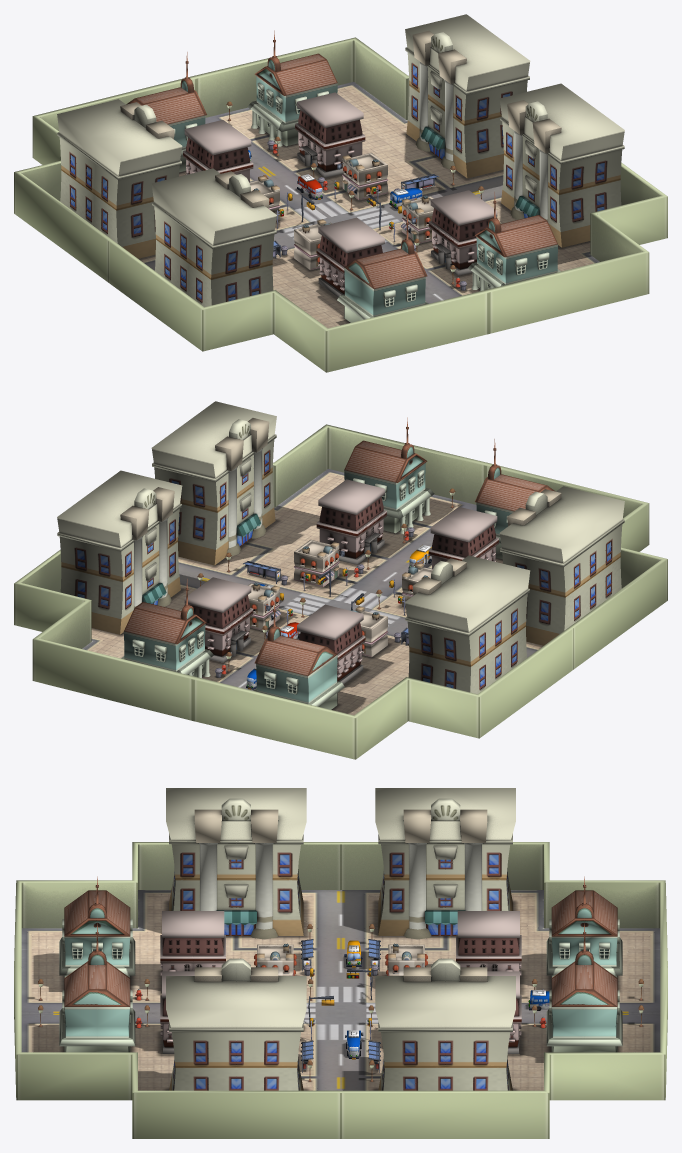
The model's file is hari_BG.FBX.
3 renders of one model, top to bottom at view 1: azimuth 30°, elevation 25°; view 2: azimuth 150°, elevation 25°; view 3: azimuth 270°, elevation 25°, orthographic. The views are drawn at different scales.
Visible parts, largest first — view 1: road_03, road_02, road_04, building_04_4, building_04_2, building_04_3, building_04_1, road_01, building_03_4, building_03_3, building_03_2, building_02_2 (+8 smaller); view 2: road_01, road_04, road_02, building_04_2, building_04_4, building_04_1, building_04_3, road_03, building_03_2, building_03_1, building_03_4, building_02_4 (+8 smaller); view 3: road_04, road_02, road_03, road_01, building_04_1, building_04_3, building_04_2, building_04_4, building_03_2, building_03_4, building_03_1, building_03_3 (+6 smaller).
Part boxes in pixels (bbox=[...]): road_03: bbox=[108, 237, 488, 372]; road_02: bbox=[193, 37, 503, 222]; road_04: bbox=[362, 162, 667, 333]; building_04_4: bbox=[499, 83, 624, 247]; building_04_2: bbox=[405, 14, 530, 178]; building_04_3: bbox=[151, 168, 276, 307]; building_04_1: bbox=[57, 99, 182, 258]; road_01: bbox=[14, 76, 335, 282]; building_03_4: bbox=[468, 192, 560, 291]; building_03_3: bbox=[337, 213, 428, 322]; building_03_2: bbox=[247, 30, 337, 146]; building_02_2: bbox=[295, 92, 365, 177]; road_01: bbox=[193, 624, 573, 759]; road_04: bbox=[178, 424, 488, 609]; road_02: bbox=[14, 549, 319, 720]; building_04_2: bbox=[57, 470, 182, 634]; building_04_4: bbox=[151, 401, 276, 565]; building_04_1: bbox=[405, 555, 530, 694]; building_04_3: bbox=[499, 486, 624, 645]; road_03: bbox=[346, 463, 667, 669]; building_03_2: bbox=[121, 579, 213, 678]; building_03_1: bbox=[253, 600, 344, 709]; building_03_4: bbox=[344, 417, 434, 533]; building_02_4: bbox=[316, 479, 386, 564]; road_04: bbox=[14, 967, 340, 1138]; road_02: bbox=[341, 967, 667, 1138]; road_03: bbox=[14, 842, 340, 1013]; road_01: bbox=[341, 842, 667, 1013]; building_04_1: bbox=[375, 788, 515, 939]; building_04_3: bbox=[166, 788, 306, 939]; building_04_2: bbox=[375, 958, 515, 1090]; building_04_4: bbox=[166, 958, 306, 1090]; building_03_2: bbox=[546, 923, 622, 1052]; building_03_4: bbox=[59, 923, 135, 1052]; building_03_1: bbox=[546, 876, 622, 977]; building_03_3: bbox=[59, 876, 135, 977].
Size of the model in its own units: 520 by 128 by 573.
